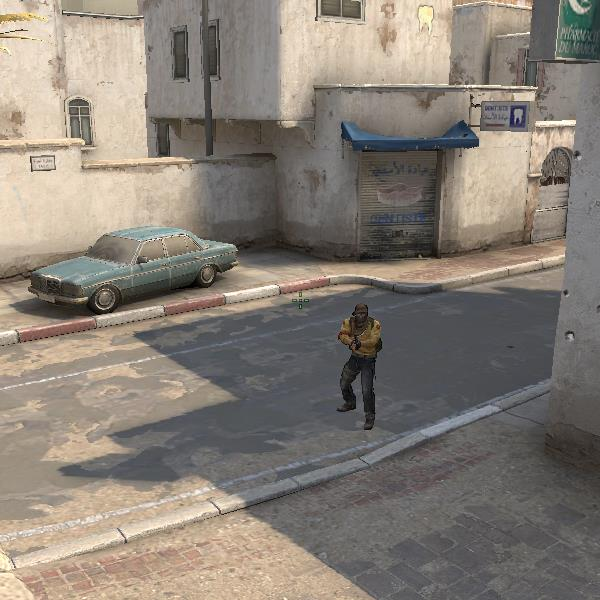t_body: (326, 300, 393, 421)
t_head: (350, 303, 374, 327)
